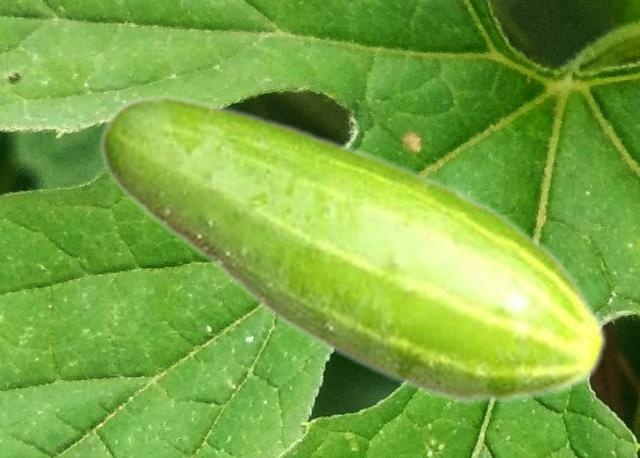cucumber: (98, 93, 608, 407)
